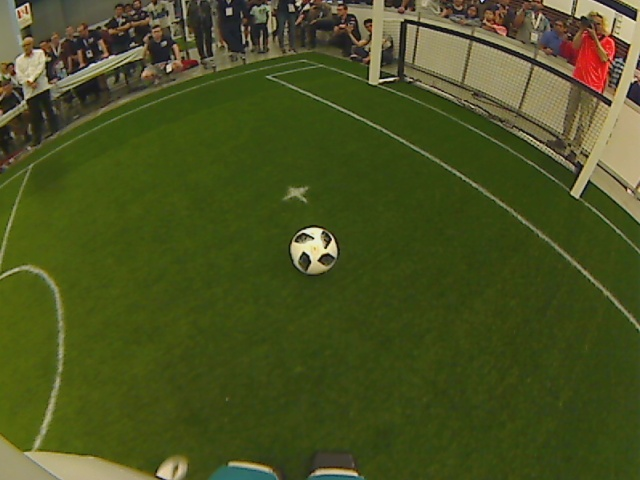ball: (289, 226, 340, 274)
